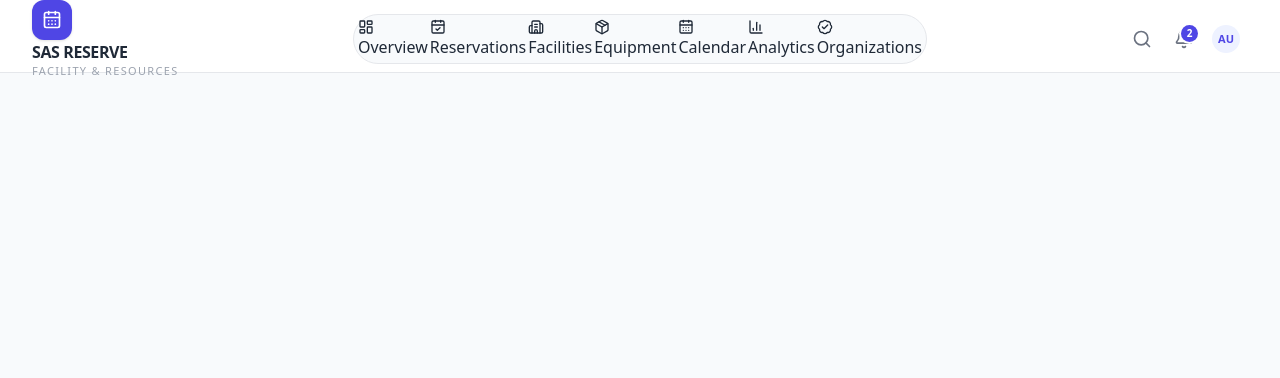
Test: Header notification center › shows the persisted unread count and opens the complete notification feed directly
The width and height of the screenshot is (1280, 378).
Expected: the text "2" is shown, [1181, 25, 1198, 42]
What coordinates should you click on to do the following:
click the button named "notifications"
I would click on:
 (1184, 39)
Its box is [1166, 21, 1202, 57].
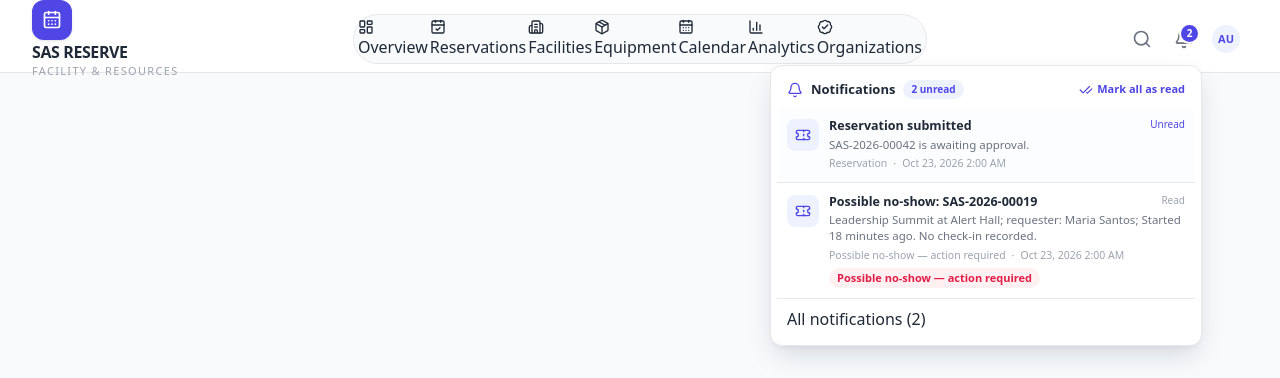
Expected: the text "Notifications" is shown, [811, 80, 895, 99]
Expected: the text "Reservation submitted" is shown, [829, 117, 972, 134]
Expected: the text "Possible no-show: SAS-2026-00019" is shown, [829, 193, 1037, 210]
